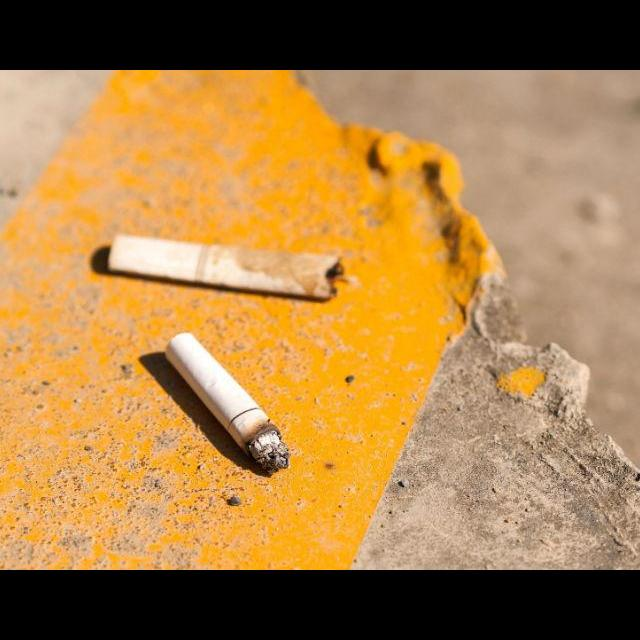Cigarette Butt: (163, 329, 292, 477), (107, 233, 347, 305)
